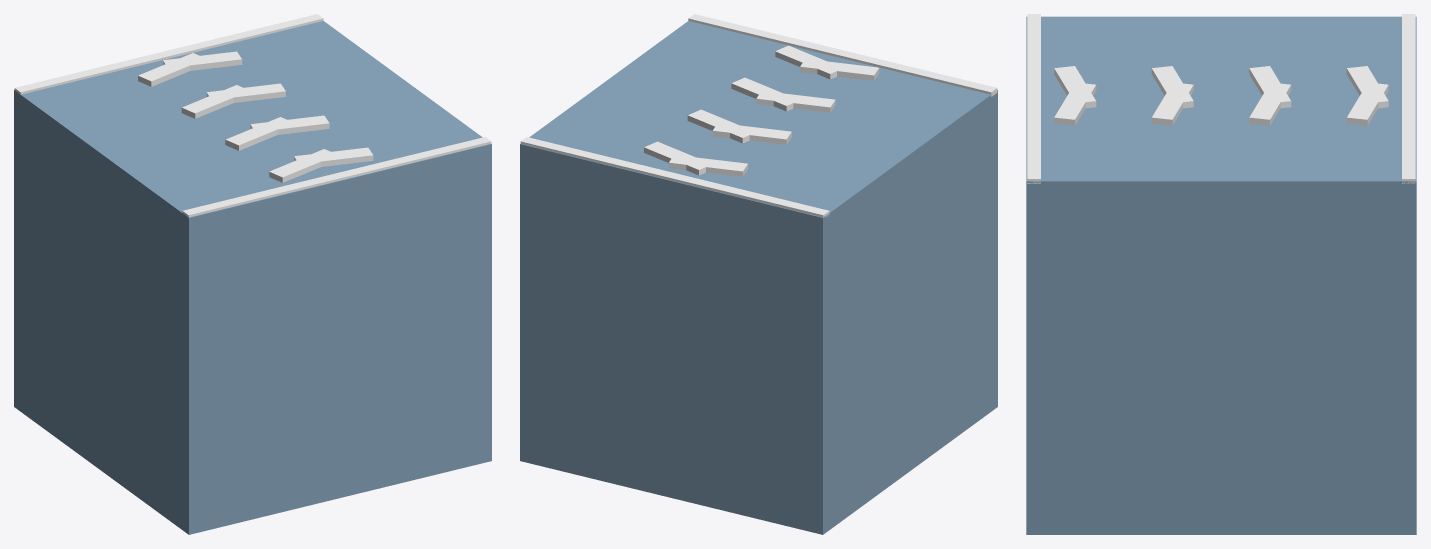
The model's file is OnOffConveyorB_Full.glb.
3 renders of one model, left to right at view 1: azimuth 30°, elevation 25°; view 2: azimuth 150°, elevation 25°; view 3: azimuth 270°, elevation 25°, orthographic. The views are drawn at different scales.
Visible parts, largest first — view 1: OnOffConveyorB_Full_body, rail_0.015, rail_-0.015, chev_0_1.015, chev_2_1.015, chev_1_1.015, chev_3_1.015, chev_1_-1.015, chev_0_-1.015, chev_2_-1.015, chev_3_-1.015; view 2: OnOffConveyorB_Full_body, rail_-0.015, rail_0.015, chev_2_1.015, chev_3_1.015, chev_1_-1.015, chev_0_-1.015, chev_0_1.015, chev_3_-1.015, chev_1_1.015, chev_2_-1.015; view 3: OnOffConveyorB_Full_body, rail_0.015, rail_-0.015, chev_3_-1.015, chev_2_-1.015, chev_1_-1.015, chev_0_-1.015, chev_3_1.015, chev_1_1.015, chev_2_1.015, chev_0_1.015.
Part boxes in pixels (left/top/right/bottom): OnOffConveyorB_Full_body: left=14, top=21, right=491, bottom=534; rail_0.015: left=14, top=14, right=323, bottom=94; rail_-0.015: left=182, top=137, right=491, bottom=217; chev_0_1.015: left=269, top=149, right=336, bottom=182; chev_2_1.015: left=181, top=85, right=249, bottom=118; chev_1_1.015: left=225, top=117, right=293, bottom=150; chev_3_1.015: left=138, top=53, right=205, bottom=86; chev_1_-1.015: left=250, top=115, right=329, bottom=134; chev_0_-1.015: left=294, top=147, right=373, bottom=166; chev_2_-1.015: left=206, top=83, right=285, bottom=102; chev_3_-1.015: left=163, top=51, right=242, bottom=70; OnOffConveyorB_Full_body: left=520, top=21, right=997, bottom=534; rail_-0.015: left=688, top=14, right=997, bottom=96; rail_0.015: left=520, top=137, right=829, bottom=217; chev_2_1.015: left=712, top=123, right=791, bottom=144; chev_3_1.015: left=669, top=155, right=748, bottom=176; chev_1_-1.015: left=731, top=77, right=799, bottom=111; chev_0_-1.015: left=775, top=45, right=843, bottom=79; chev_0_1.015: left=800, top=59, right=879, bottom=80; chev_3_-1.015: left=644, top=141, right=711, bottom=175; chev_1_1.015: left=756, top=92, right=835, bottom=112; chev_2_-1.015: left=687, top=109, right=749, bottom=143; OnOffConveyorB_Full_body: left=1026, top=16, right=1416, bottom=534; rail_0.015: left=1402, top=14, right=1415, bottom=183; rail_-0.015: left=1027, top=14, right=1040, bottom=183; chev_3_-1.015: left=1346, top=83, right=1388, bottom=125; chev_2_-1.015: left=1249, top=82, right=1291, bottom=125; chev_1_-1.015: left=1151, top=82, right=1193, bottom=125; chev_0_-1.015: left=1054, top=82, right=1096, bottom=125; chev_3_1.015: left=1346, top=66, right=1388, bottom=108; chev_1_1.015: left=1151, top=66, right=1193, bottom=108; chev_2_1.015: left=1249, top=66, right=1291, bottom=108; chev_0_1.015: left=1054, top=66, right=1096, bottom=108.
Bounding box in the file's own units: 1 × 1.02 × 1.
